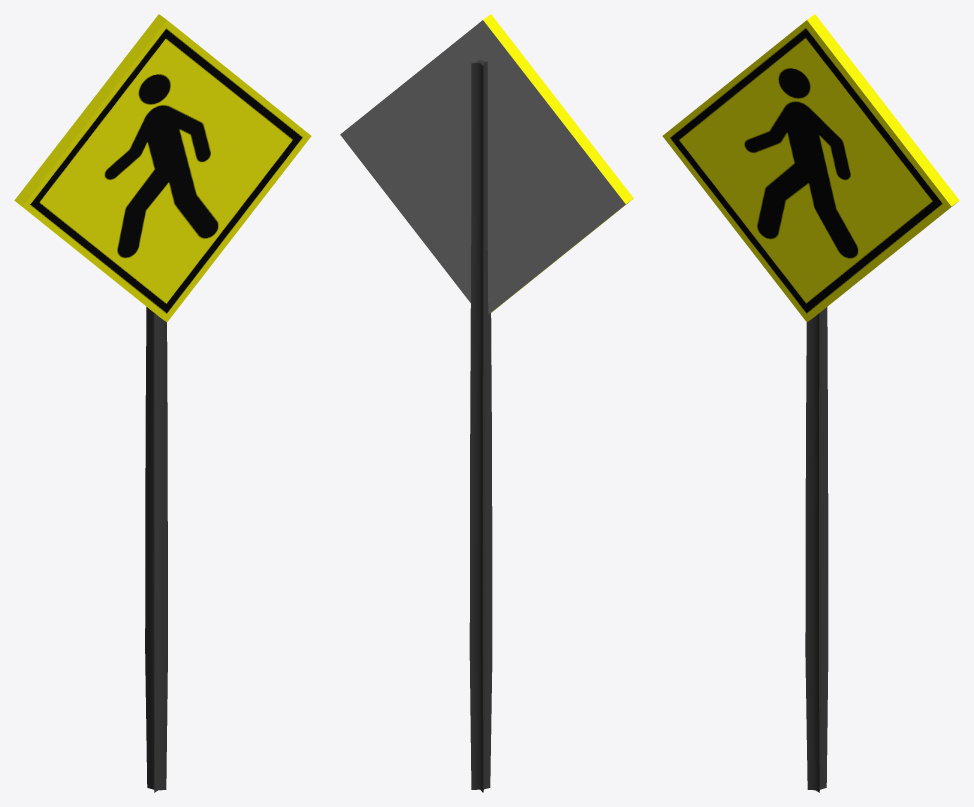
File: PedCrossSignAsset.fbx
3 renders of one model, left to right at view 1: azimuth 30°, elevation 25°; view 2: azimuth 150°, elevation 25°; view 3: azimuth 330°, elevation 25°, orthographic.
Parts seen in each view (by area): view 1: pedCrosssign1; view 2: pedCrosssign1; view 3: pedCrosssign1.
Boxes of the visible parts, box(x1,y1,x2,y2) form: pedCrosssign1: box(14, 14, 311, 792); pedCrosssign1: box(340, 14, 633, 792); pedCrosssign1: box(662, 14, 959, 792).
Bounding box in the file's own units: 98.24 × 252 × 8.9.
